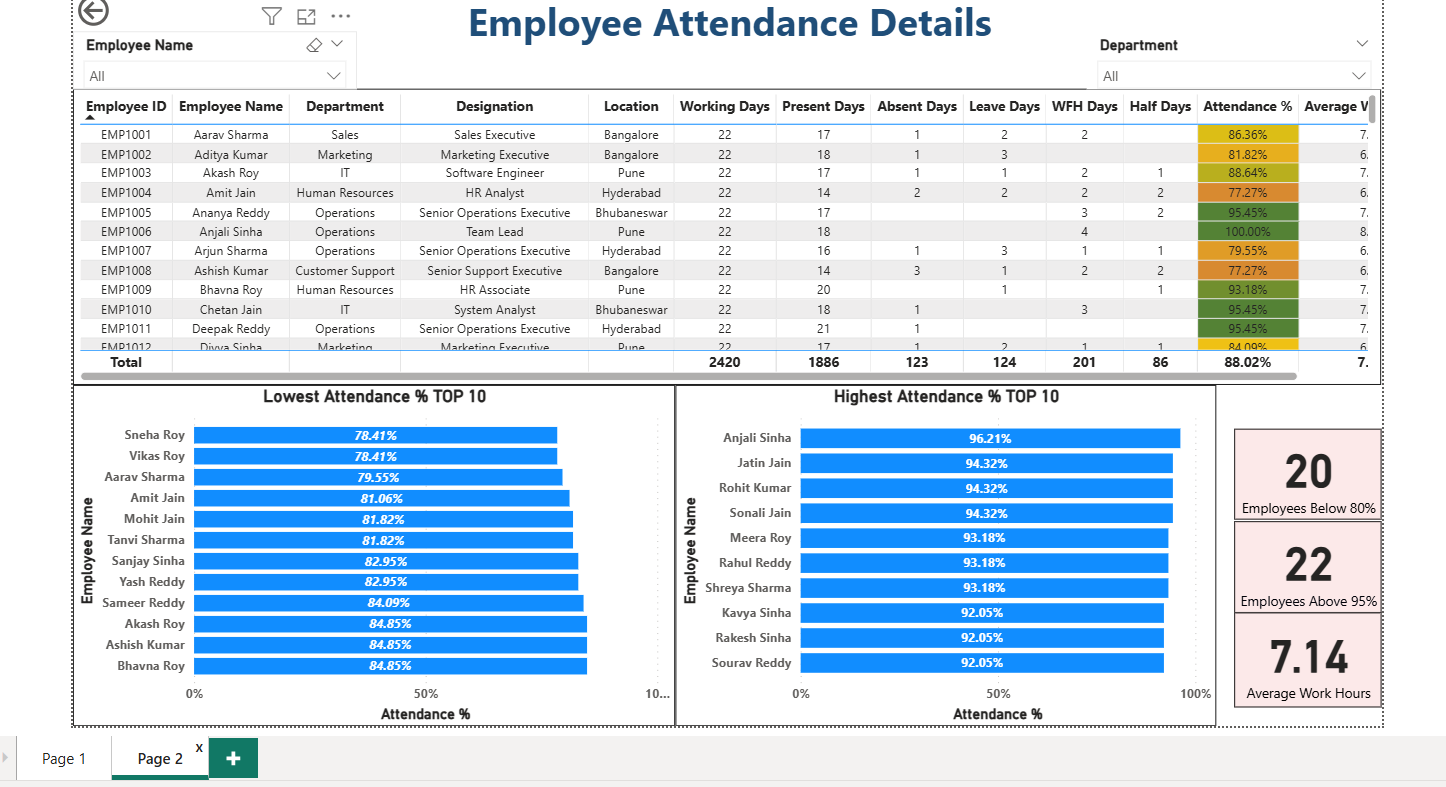

The page's visual inventory and layout, read from the dashboard file:
{"tool":"powerbi","page":{"name":"Page 2","canvas":[1280,720],"ordinal":1},"visuals":[{"type":"textbox","box":[340.9,0,585.2,61.4],"z":0},{"type":"tableEx","fields":{"Values":["Employee Master.Employee ID","Employee Master.Employee Name","Employee Master.Department","Employee Master.Designation","Employee Master.Location","Attendance Raw.Working Days","Attendance Raw.Present Days","Attendance Raw.Absent Days","Attendance Raw.Leave Days","Attendance Raw.WFH Days","Attendance Raw.Half Days","Attendance Raw.Attendance %"]},"box":[0,96.6,1279.5,289.8],"z":1000},{"type":"actionButton","box":[0,0,100,40],"z":2000},{"type":"barChart","title":"Lowest Attendance % TOP 10","fields":{"Category":["Employee Master.Employee Name"],"Y":["Attendance Raw.Attendance %"]},"box":[0,386.2,588.8,333.8],"z":3000},{"type":"barChart","title":"Highest Attendance % TOP 10","fields":{"Category":["Employee Master.Employee Name"],"Y":["Attendance Raw.Attendance %"]},"box":[588.8,386.2,528.8,333.8],"z":4000},{"type":"slicer","fields":{"Values":["Employee Master.Employee Name"]},"box":[0,39.8,277.3,56.8],"z":5000},{"type":"slicer","fields":{"Values":["Employee Master.Department"]},"box":[990.9,39.8,288.6,56.8],"z":6000},{"type":"card","fields":{"Values":["Attendance Raw.Employees Below 80%"]},"box":[1135.2,429.5,144.3,88.6],"z":7000},{"type":"card","fields":{"Values":["Attendance Raw.Employees Above 95%"]},"box":[1135.2,519.3,144.3,89.8],"z":8000},{"type":"card","fields":{"Values":["Attendance Raw.Average Work Hours"]},"box":[1135.2,609.1,144.3,93.2],"z":9000}]}

Visuals, with their boxes on the page's 1280x720 design canvas (x1, y1, x2, y2). These are canvas units, not pixel positions in the 1446x787 screenshot, which may show the page scaled, cropped or inside an application window:
textbox: [left=341, top=0, right=926, bottom=61]
tableEx - Employee Master.Employee ID x Employee Master.Employee Name: [left=0, top=97, right=1280, bottom=386]
actionButton: [left=0, top=0, right=100, bottom=40]
"Lowest Attendance % TOP 10" barChart: [left=0, top=386, right=589, bottom=720]
"Highest Attendance % TOP 10" barChart: [left=589, top=386, right=1118, bottom=720]
slicer - Employee Master.Employee Name: [left=0, top=40, right=277, bottom=97]
slicer - Employee Master.Department: [left=991, top=40, right=1280, bottom=97]
card - Attendance Raw.Employees Below 80%: [left=1135, top=430, right=1280, bottom=518]
card - Attendance Raw.Employees Above 95%: [left=1135, top=519, right=1280, bottom=609]
card - Attendance Raw.Average Work Hours: [left=1135, top=609, right=1280, bottom=702]
